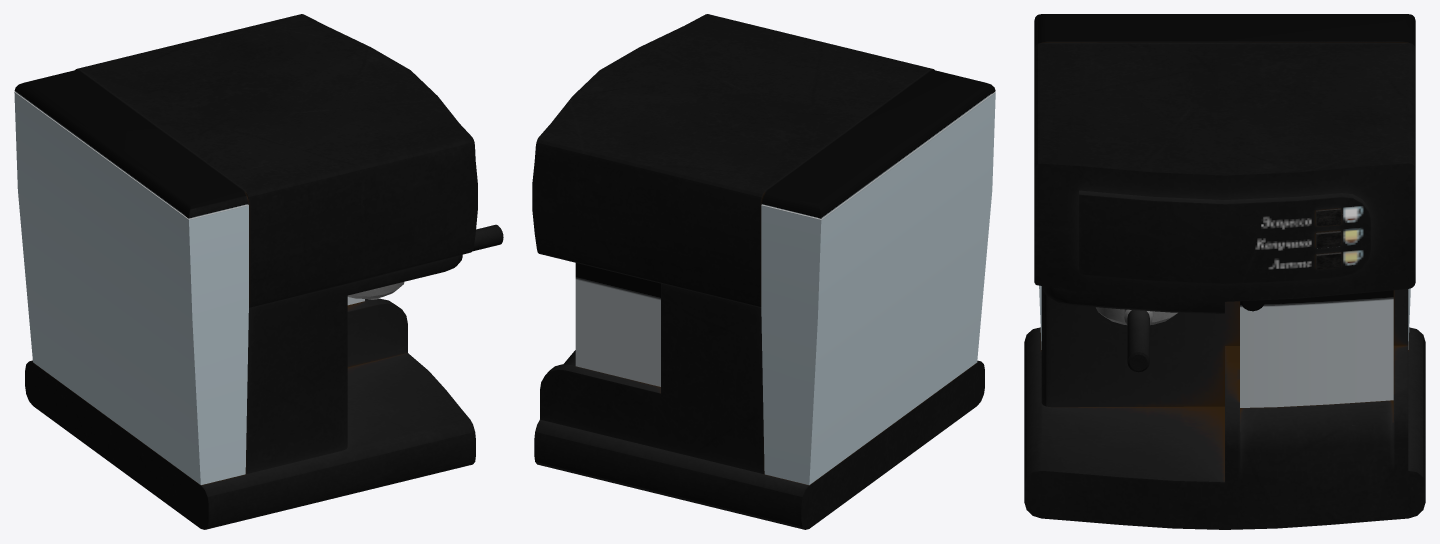
File: espresso_coffee_machine.glb
The picture shows the model from 3 angles, left to right: view 1: azimuth 30°, elevation 25°; view 2: azimuth 150°, elevation 25°; view 3: azimuth 270°, elevation 25°; orthographic projection. The views are drawn at different scales.
Visible parts, largest first — view 1: Base.001; view 2: Base.001; view 3: Base.001.
Part boxes in pixels (<box>): Base.001: <box>14,14,503,529</box>; Base.001: <box>532,14,995,529</box>; Base.001: <box>1024,14,1425,529</box>.
Size of the model in its own units: 2.39 by 2.08 by 2.12.
1 material, 1 textured.
